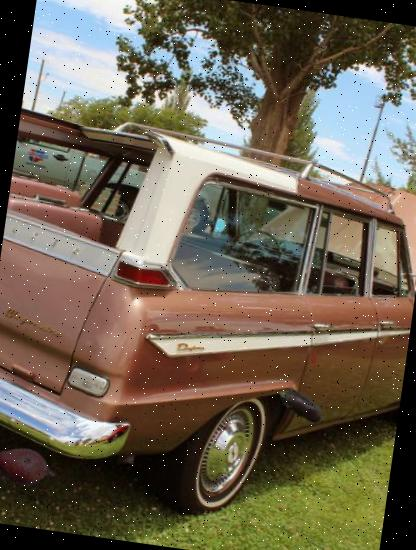Eggplant: (272, 376, 330, 434)
Salak: (0, 425, 61, 506)
